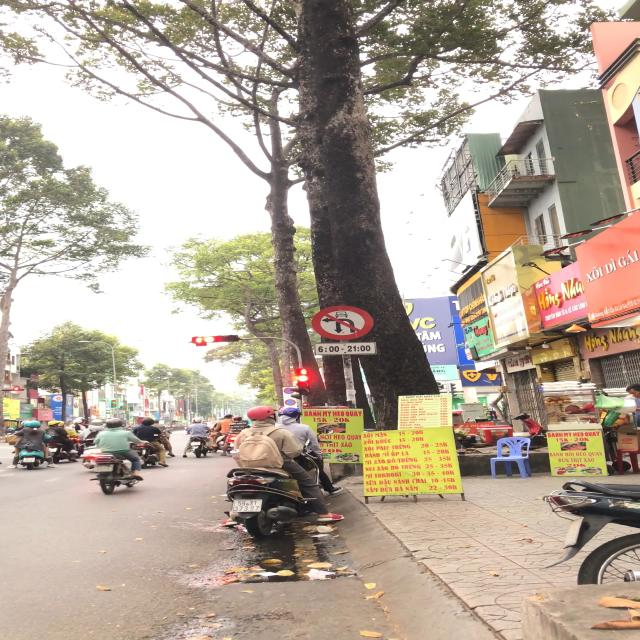Bien bao cam oto re trai va quay dau xe: (311, 304, 377, 344)
